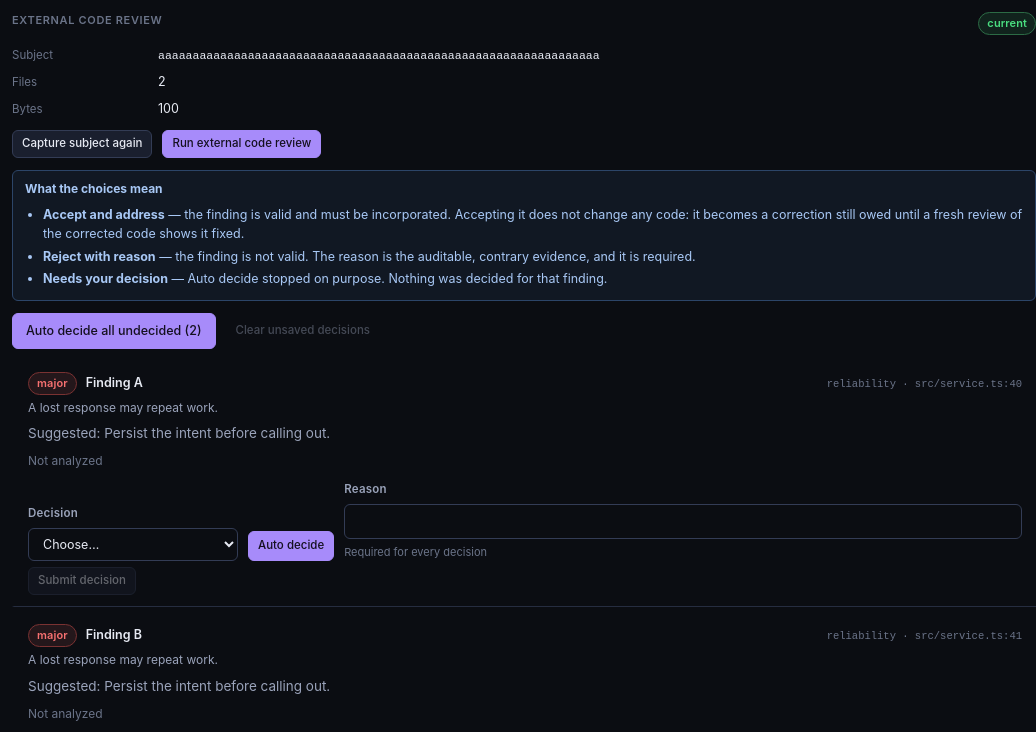
Test: code review: Auto decide beside every Decision › keeps a failure inside its own finding with the real error and a Retry that works
Expected: the text "Finding A" is shown, [86, 373, 143, 392]
What coordinates should you click on to do the following:
click the button with aria-label "Auto decide: Finding A"
I would click on:
 (291, 546)
Its box is [248, 531, 334, 561].
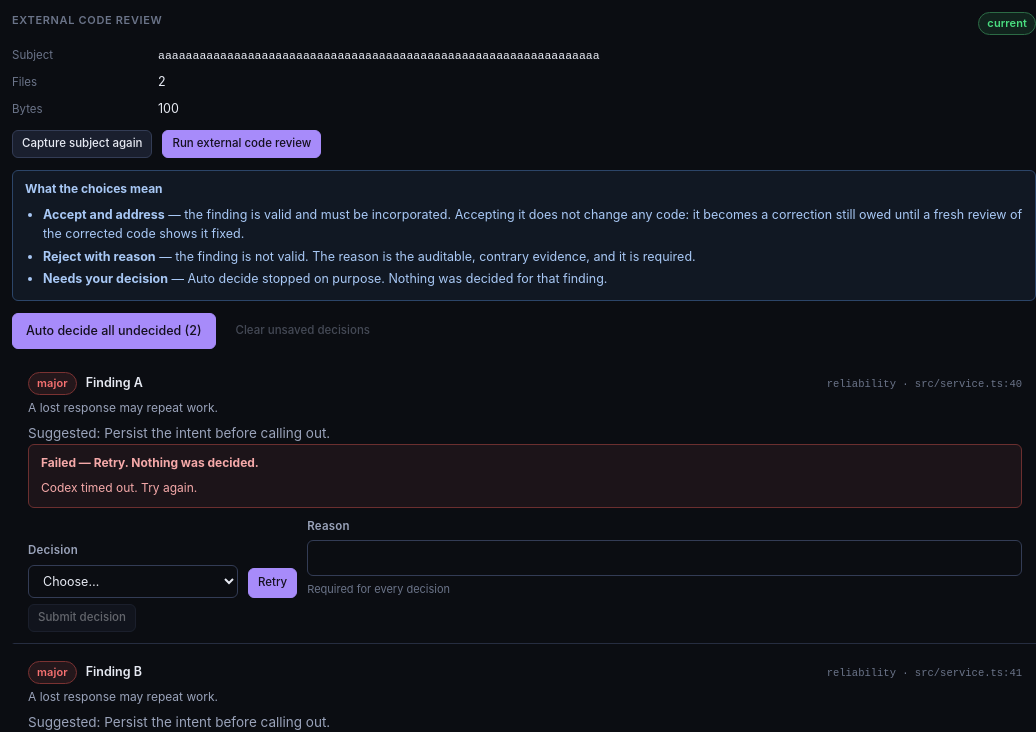
Expected: the text "Finding A" is shown, [86, 375, 143, 390]
Expected: the message "Failed — Retry. Nothing was decided. Codex timed out. Try again." is shown, [28, 444, 1022, 508]
What coordinates should you click on to do the following:
click the button with aria-label "Retry auto decide: Finding A"
I would click on:
 (273, 583)
Its box is [248, 568, 297, 598].
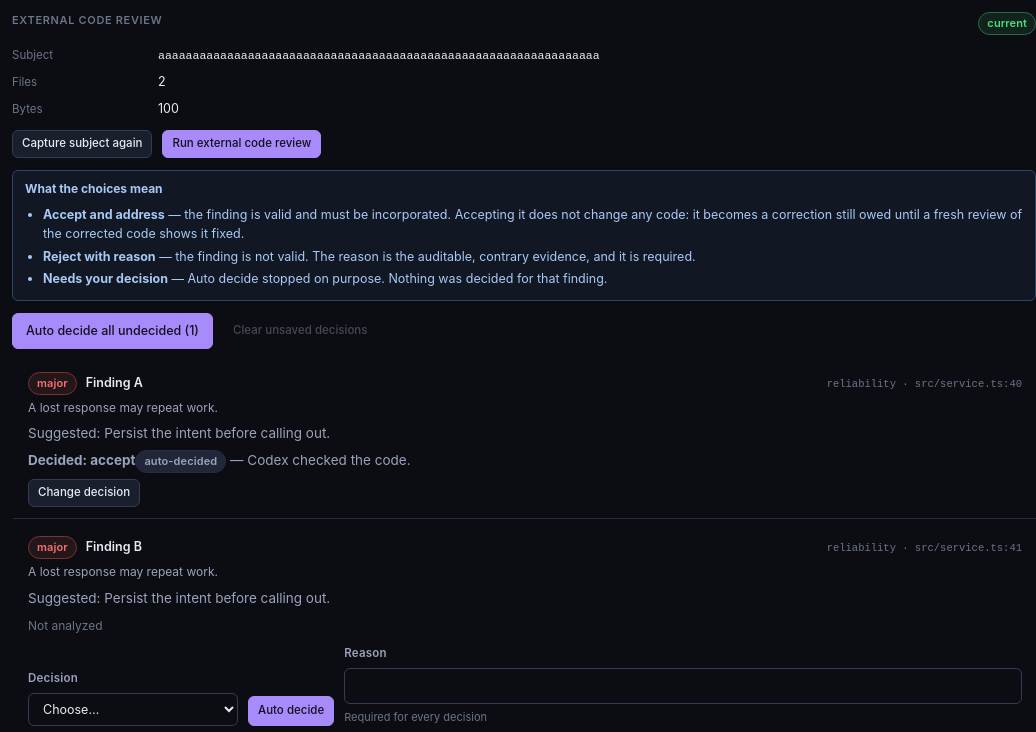
Expected: the text "Decided: accept" is shown, [28, 452, 135, 468]
